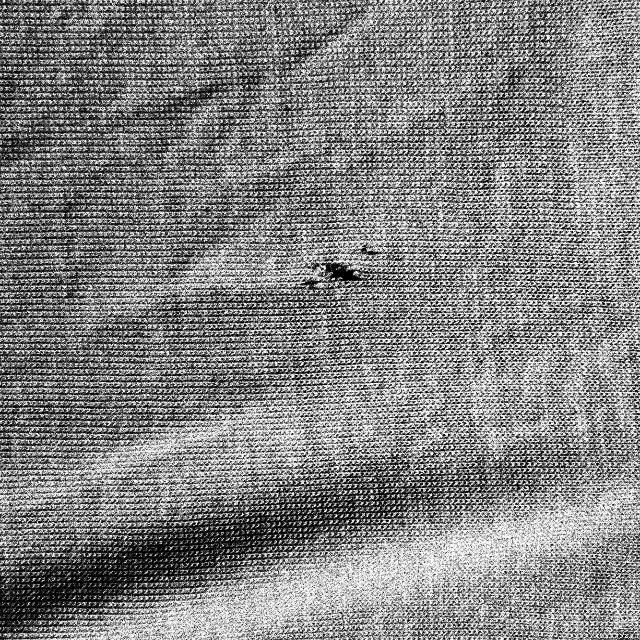Hole: (310, 246, 372, 296)
